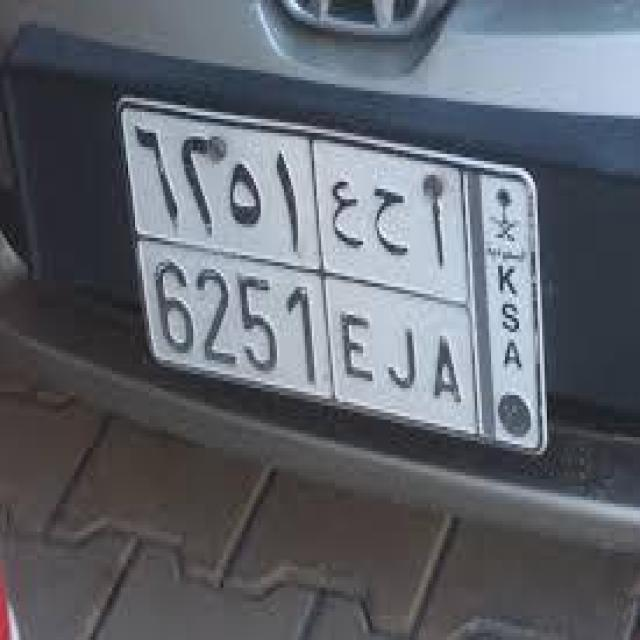license_plate: (124, 63, 533, 452)
